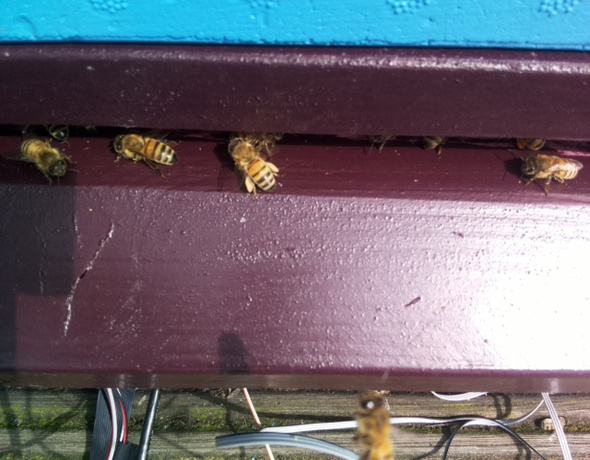no_pollen: (352, 386, 396, 460), (113, 133, 181, 170), (19, 137, 71, 183), (517, 151, 582, 185)
pollen: (225, 136, 281, 196)
